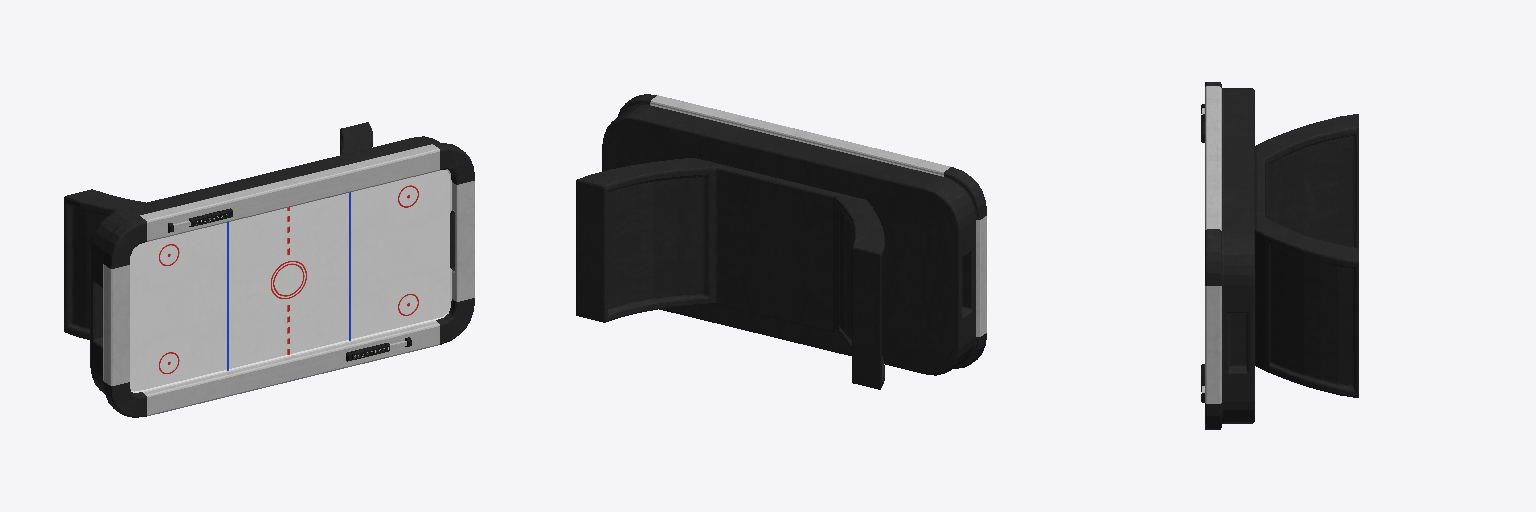
3 renders of one model, left to right at view 1: azimuth 30°, elevation 25°; view 2: azimuth 150°, elevation 25°; view 3: azimuth 270°, elevation 25°, orthographic.
Visible parts, largest first — view 1: Air_Hockey_Table_Sphere; view 2: Air_Hockey_Table_Sphere; view 3: Air_Hockey_Table_Sphere.
Part boxes in pixels (x1,y1,x2,y2): Air_Hockey_Table_Sphere: (64, 122, 474, 417); Air_Hockey_Table_Sphere: (576, 94, 986, 389); Air_Hockey_Table_Sphere: (1201, 82, 1358, 429).
Size of the model in its own units: 1.53 by 0.7853 by 0.5758.
1 materials, 1 textured.